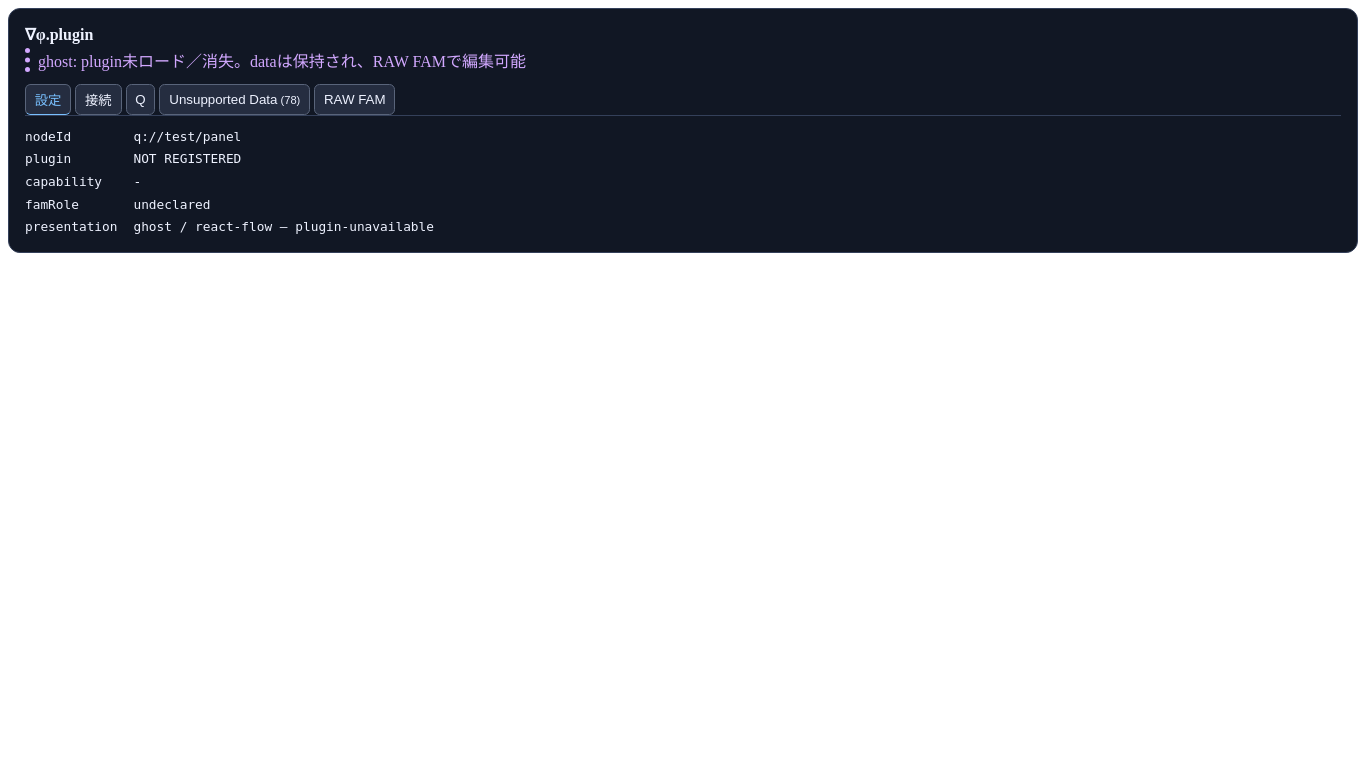
Scenario: FQueryNodePanel › ghost（registration無し）でもdataを保持しRAW FAMで編集できる
The width and height of the screenshot is (1366, 767).
expect the message "ghost: plugin未ロード／消失。dataは保持され、RAW FAMで編集可能" is shown: met, box [25,48,1341,72]
Step 1. Click the tab "Q" → coordinates (140, 99), box [126,84,156,115]
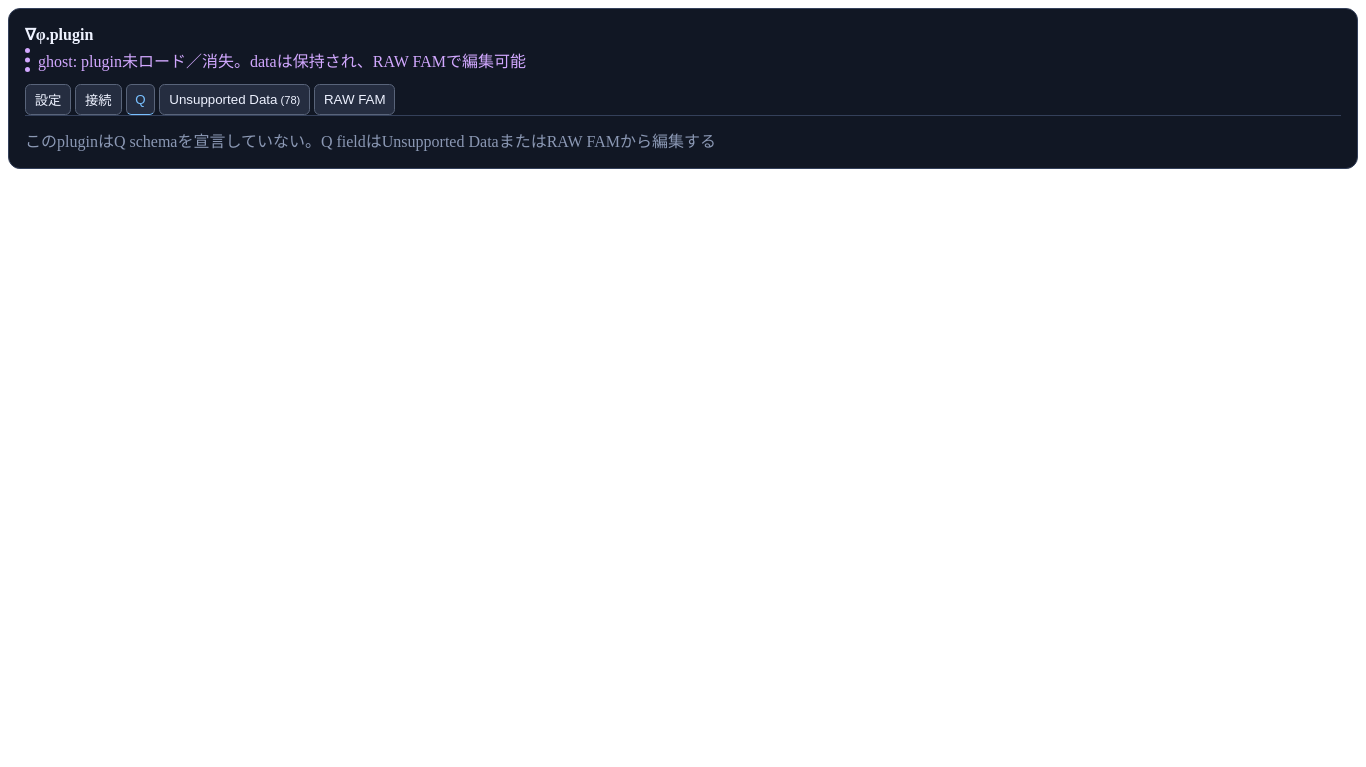
expect the text "Q schemaを宣言していない" is shown: met, box [25,133,716,150]
Step 2. Click the tab "Unsupported Data (78)" → coordinates (235, 99), box [160,84,310,115]
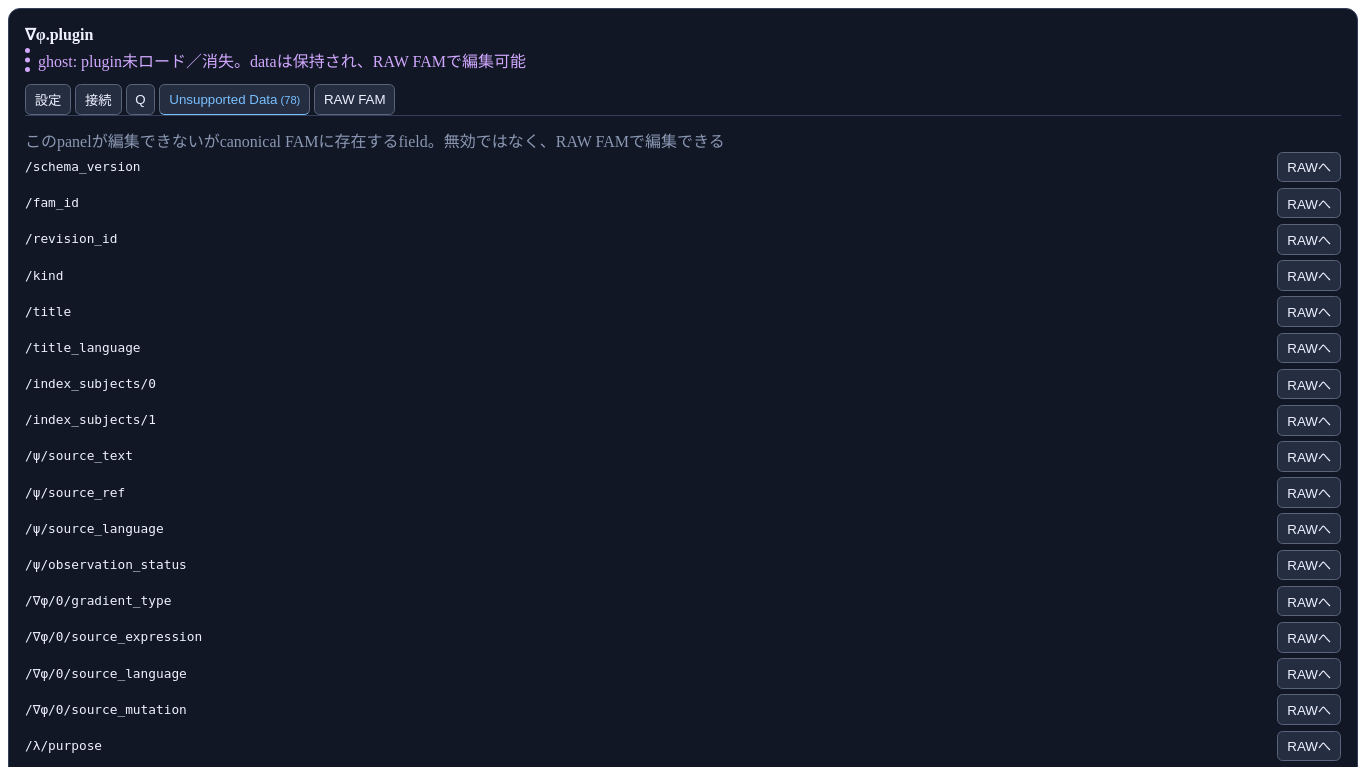
Step 3. Click the tab "RAW FAM" → coordinates (355, 99), box [314,84,395,115]
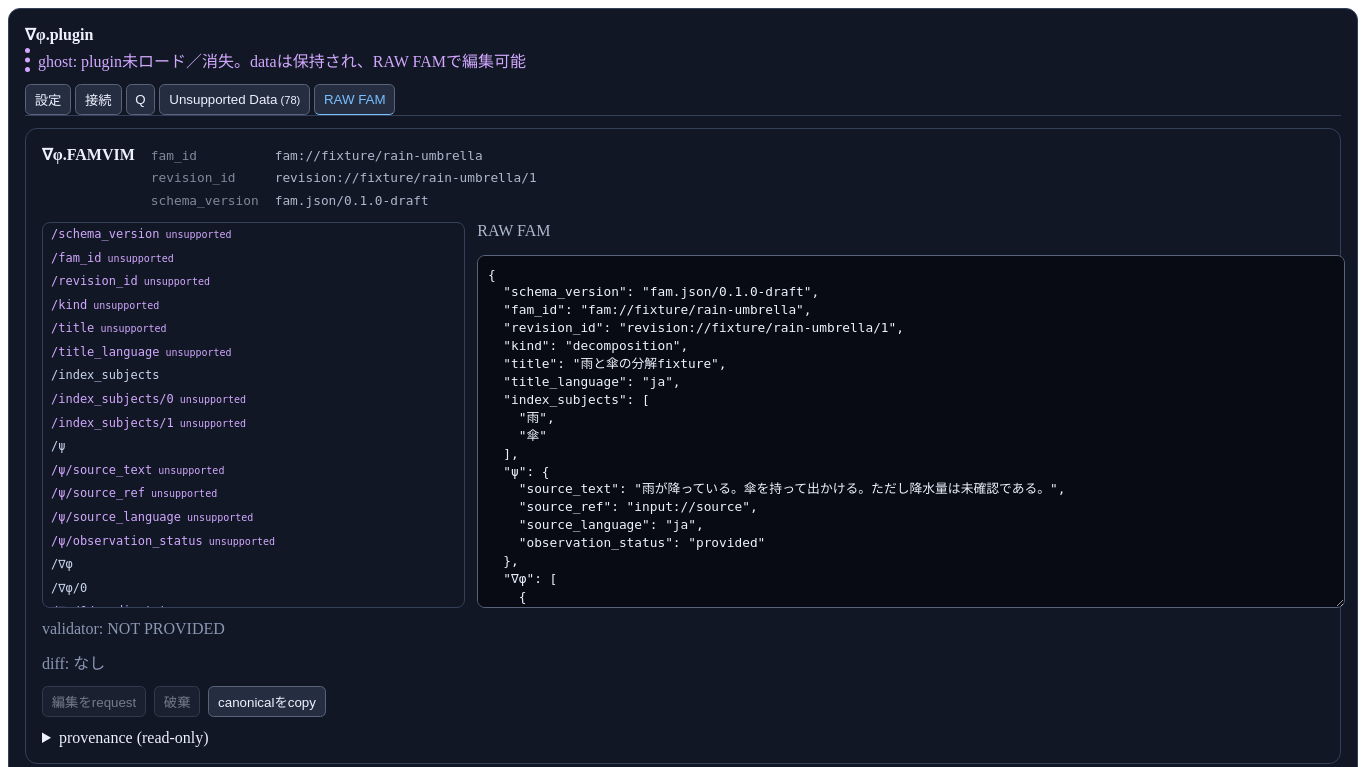
expect the text box labelled "RAW FAM" is enabled: met, box [477,255,1345,608]
